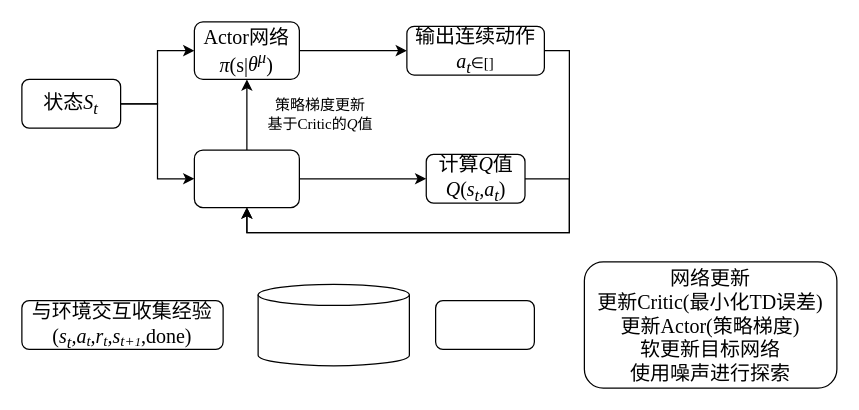
This 859x410 diagram has some shape labels left out. Here are the shapes that lost their labels. From the top down, the centre of each, then its label:
At [246,178]: "Critic网络 Q (s, a | θ Q )".
At [333,324]: "经验回放池 Replay Buffer".
At [484,324]: "随机采样".
